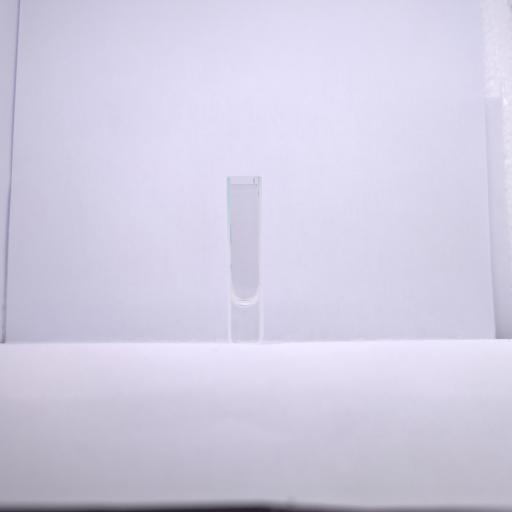cuvette: (226, 174, 265, 348)
liquid: (230, 298, 261, 344)
